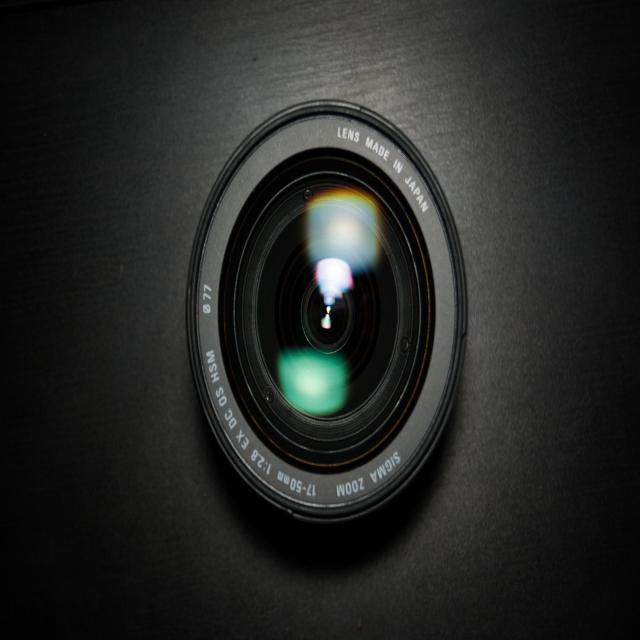hidden camera: (195, 99, 461, 530)
